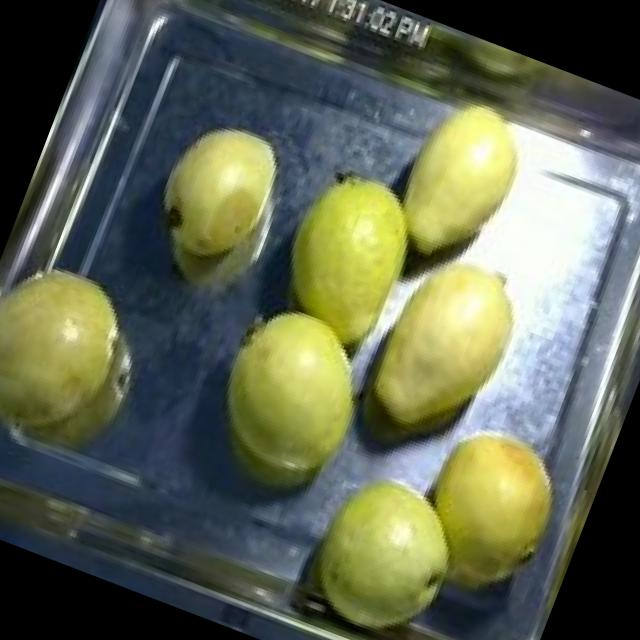Fruit: (333, 224, 553, 491), (186, 282, 396, 518), (0, 232, 178, 493), (388, 399, 592, 625), (251, 142, 449, 370), (362, 74, 560, 294), (277, 444, 487, 640), (133, 98, 306, 290)
